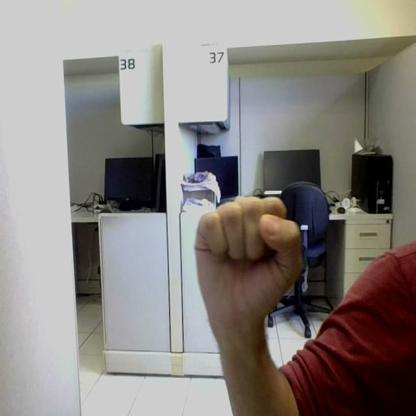S: (194, 197, 302, 303)
